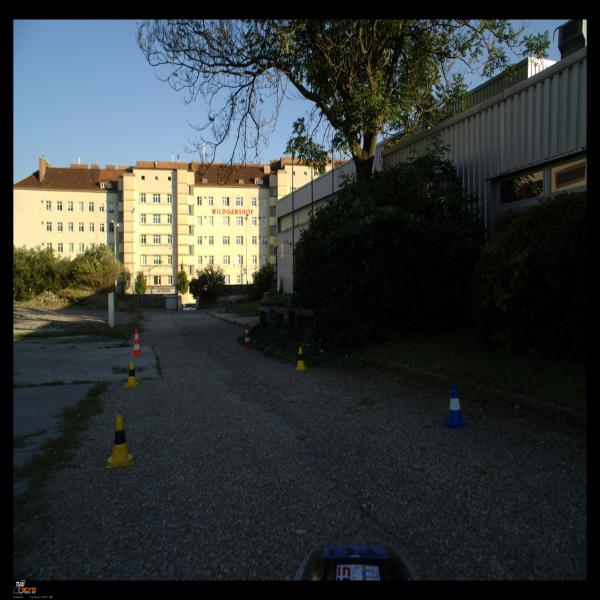blue_cone: (443, 385, 467, 429)
large_orange_cone: (130, 329, 144, 356), (243, 323, 254, 349)
yellow_cone: (107, 414, 133, 468), (124, 361, 140, 388), (295, 347, 308, 371)
